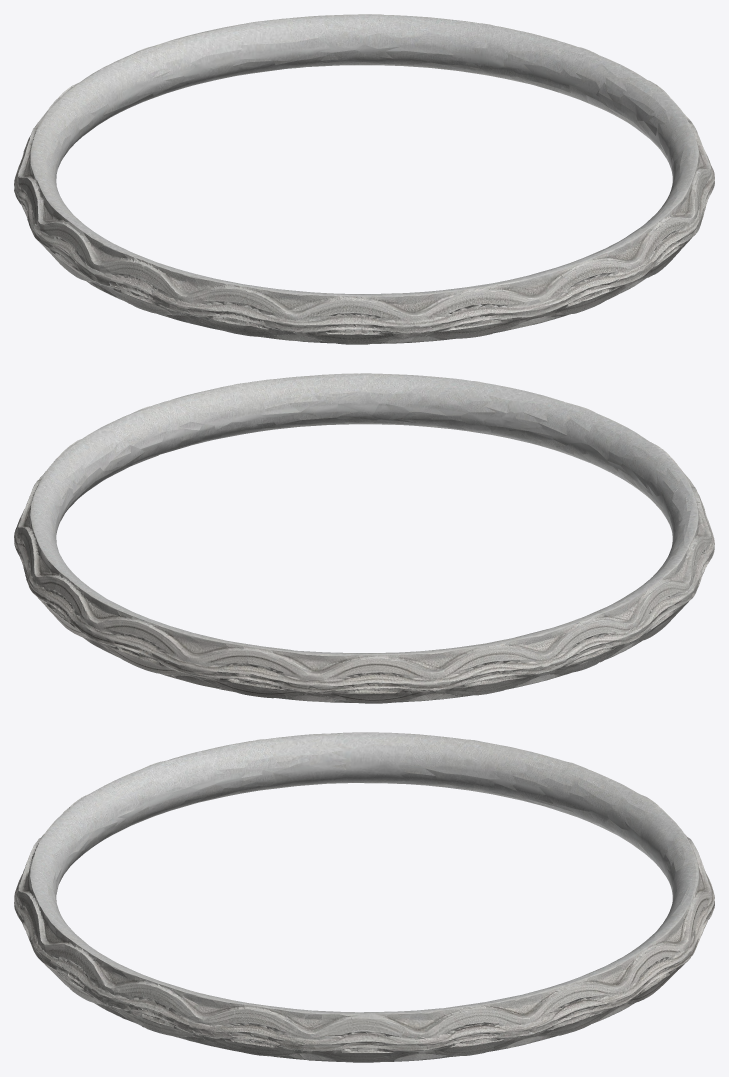
File: ring_silver_wave.glb
The picture shows the model from 3 angles, top to bottom: view 1: azimuth 30°, elevation 25°; view 2: azimuth 150°, elevation 25°; view 3: azimuth 270°, elevation 25°; orthographic projection.
Bounding box in the file's own units: 1.87 × 0.1448 × 1.89.
1 material, 1 textured.
